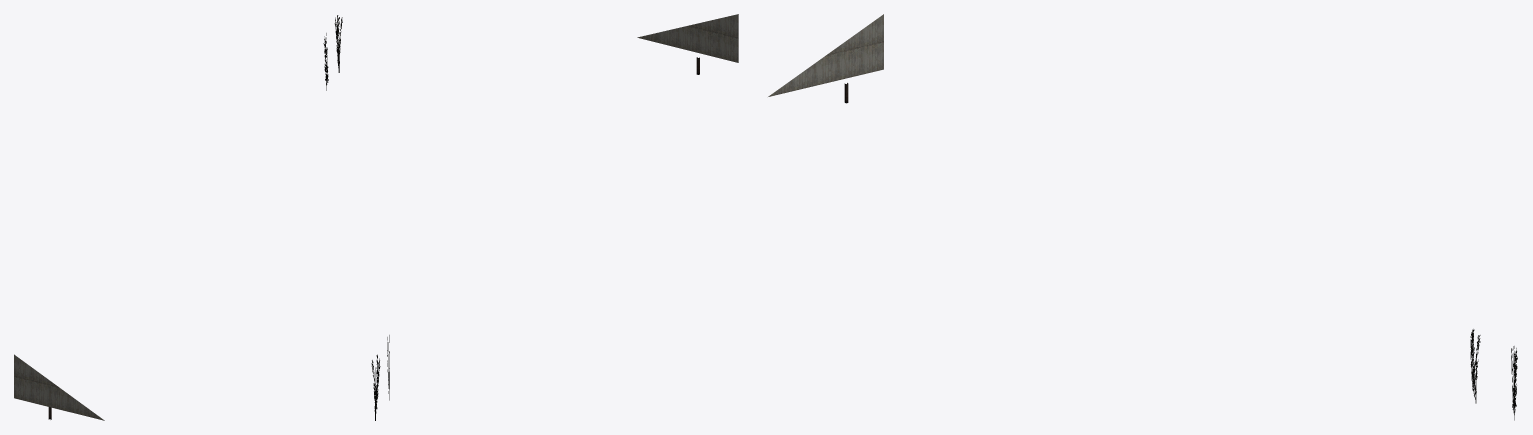
Rendered from cell_14_-13.gltf.
The picture shows the model from 3 angles, left to right: view 1: azimuth 30°, elevation 25°; view 2: azimuth 210°, elevation 25°; view 3: azimuth 270°, elevation 25°; orthographic projection. The views are drawn at different scales.
Visible parts, largest first — view 1: cell_14_-13; view 2: cell_14_-13; view 3: cell_14_-13.
Boxes of the visible parts, x1,y1,x2,y2 form: cell_14_-13: [14, 15, 342, 420]; cell_14_-13: [371, 14, 738, 420]; cell_14_-13: [768, 14, 1517, 420].
Size of the model in its own units: 252 by 32.35 by 224.
Materials: 4 (4 with a texture image).
